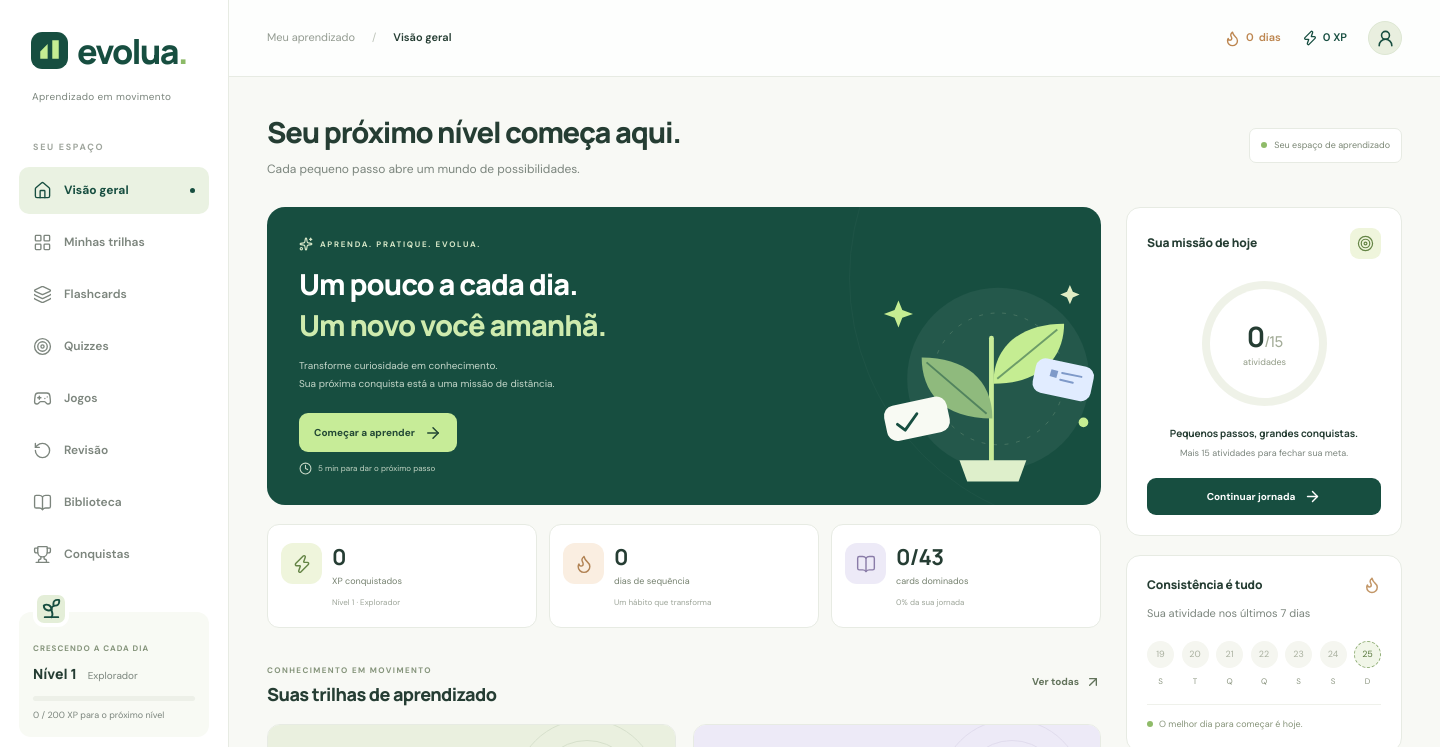
Test case: Evolua application flows without network or browser automation › starts with real zero progress and displays all four study trails
The image size is (1440, 747).
Check: the heading "Seu próximo nível começa aqui." is shown, box [267,112,680,153]
Check: the text "XP conquistados" is shown, box [332,574,402,588]
Click the link "Minhas trilhas". click: (89, 242)
box: [33,233,145,252]
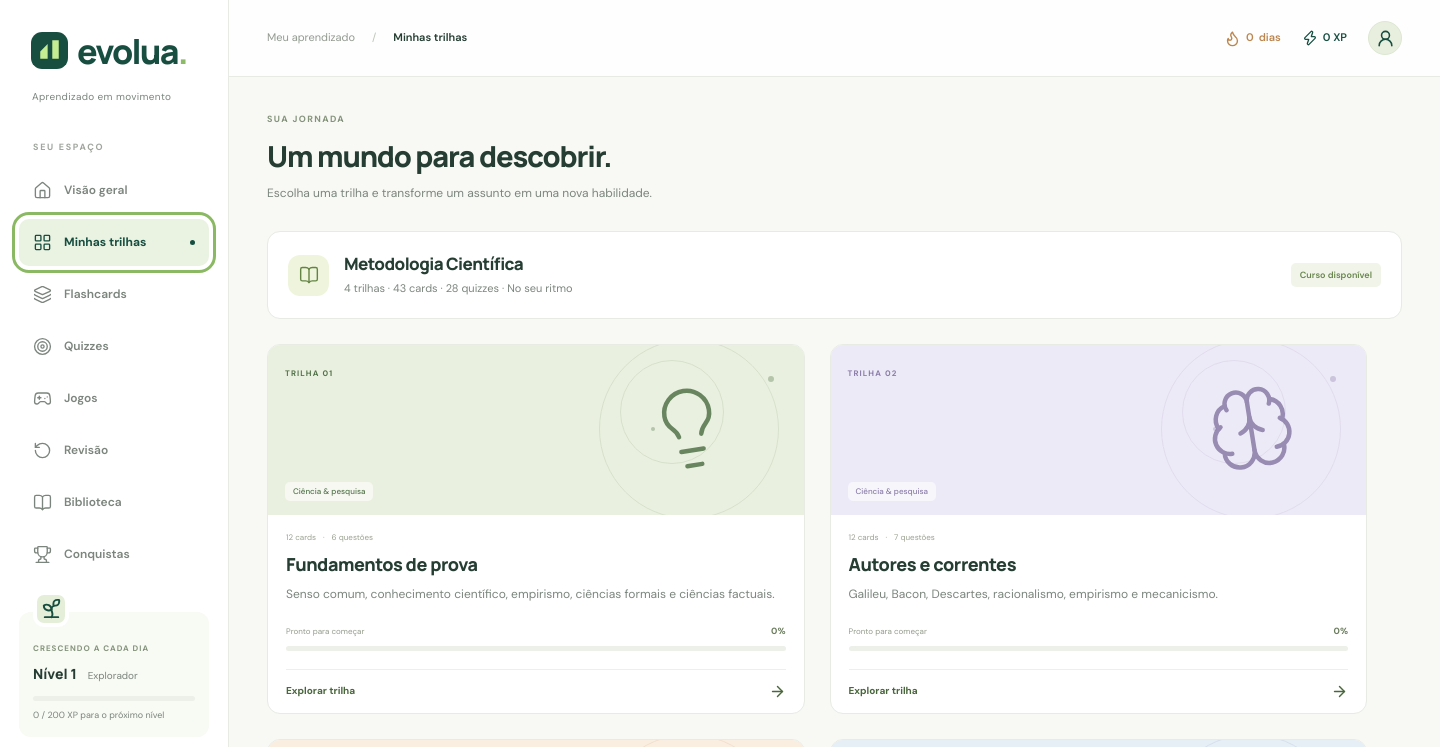
Check: the heading "Um mundo para descobrir." is shown, box [267,136,652,177]
Check: the number of buttons "Explorar trilha" is 4
